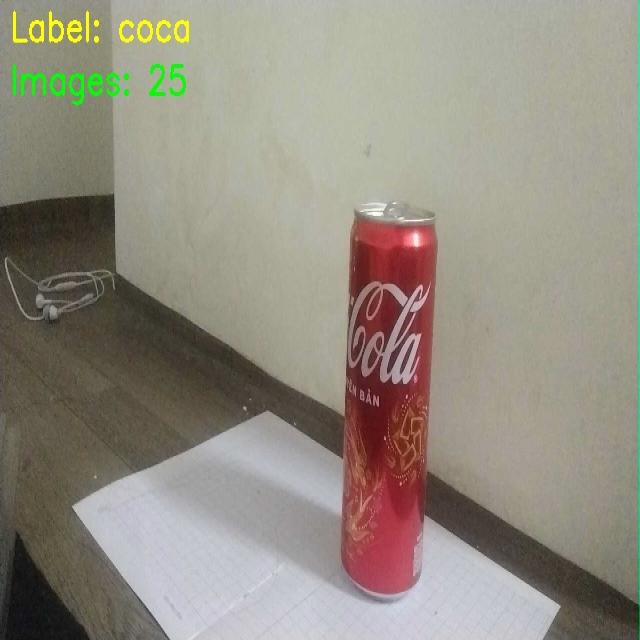Coca: (313, 179, 470, 611)
